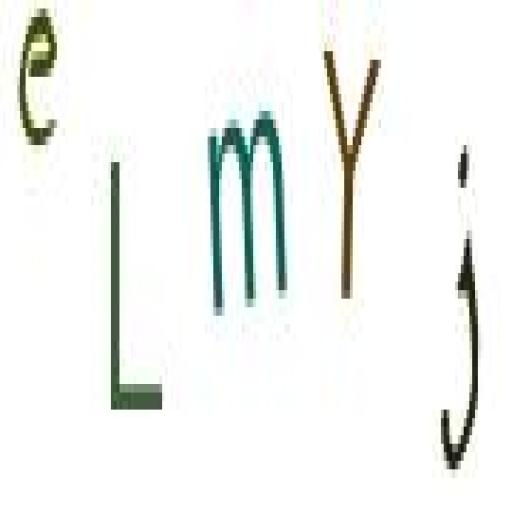L: (105, 143, 170, 461)
Y: (321, 23, 385, 345)
e: (13, 0, 69, 172)
j: (432, 120, 490, 496)
m: (200, 89, 300, 337)
